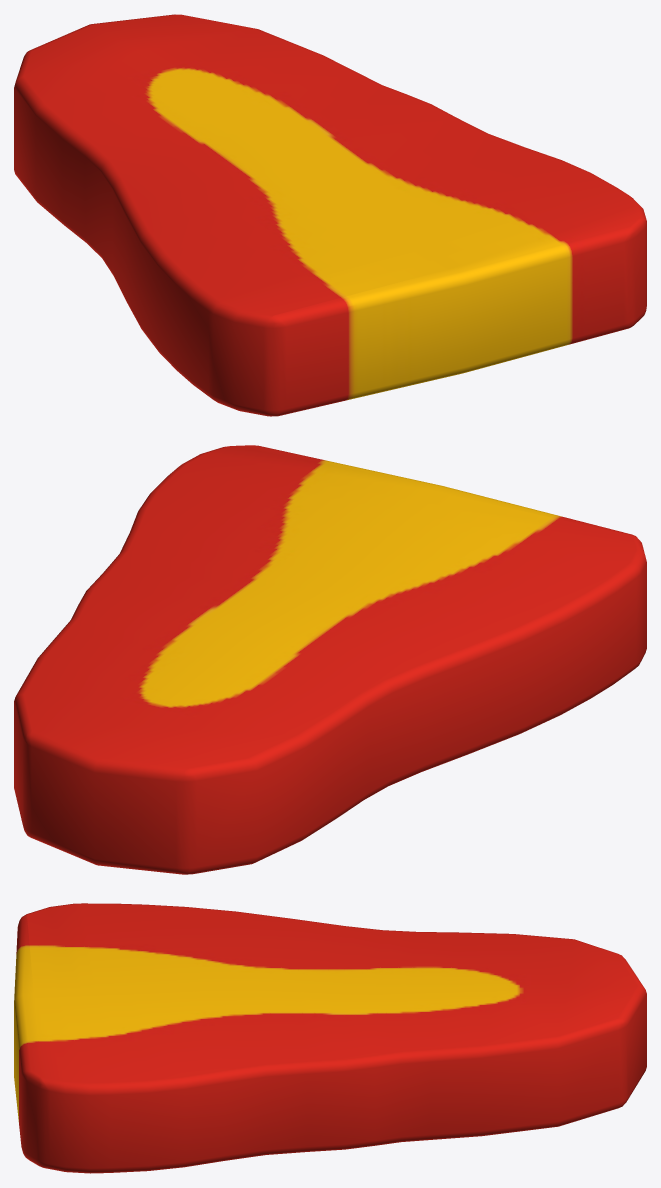
Rendered from flame3.fbx.
3 views of the same model, one above another, from view 1: azimuth 30°, elevation 25°; view 2: azimuth 150°, elevation 25°; view 3: azimuth 270°, elevation 25° (orthographic). The views are drawn at different scales.
Visible parts, largest first — view 1: flame_3; view 2: flame_3; view 3: flame_3.
Boxes of the visible parts, box(x1,y1,x2,y2) form: flame_3: box(14, 14, 646, 416); flame_3: box(14, 445, 646, 874); flame_3: box(14, 903, 646, 1173).
Bounding box in the file's own units: 52.04 × 11.62 × 74.48.
